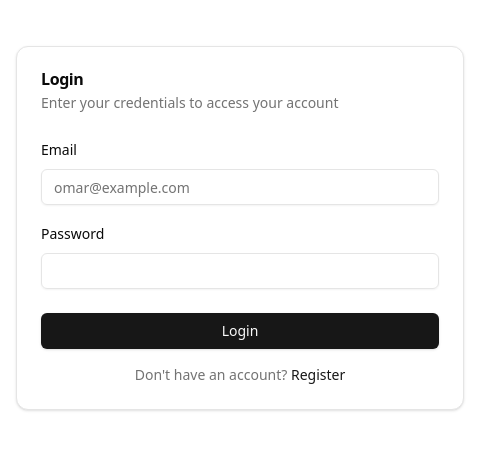
LoginPage › shows error message when login fails (wrong credentials)
This screenshot has width=481, height=458.
Type "wrong@test.com" into the field labelled "Email" at (240, 187), box [41,169,439,205]
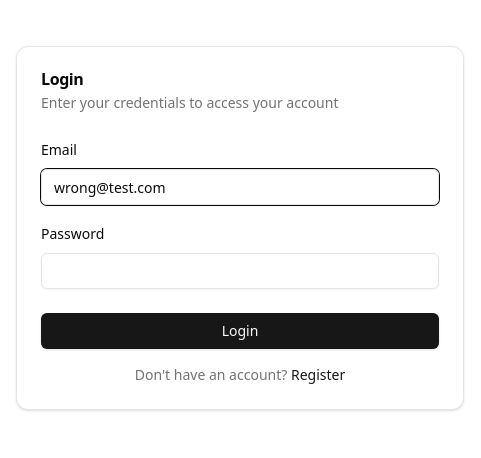
Type "wrongpass" into the password field labelled "Password" at (240, 271), box [41,253,439,289]
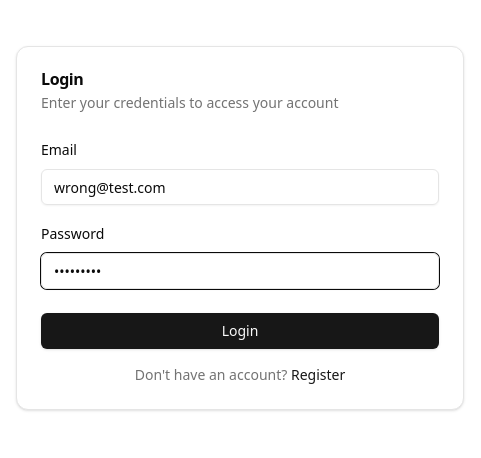
Click the button "Login" at (240, 331), box [41,313,439,349]
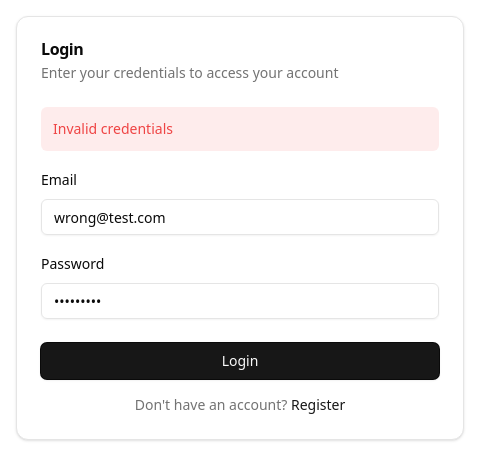
expect the text "Invalid credentials" is shown: met, box [41,107,439,151]
